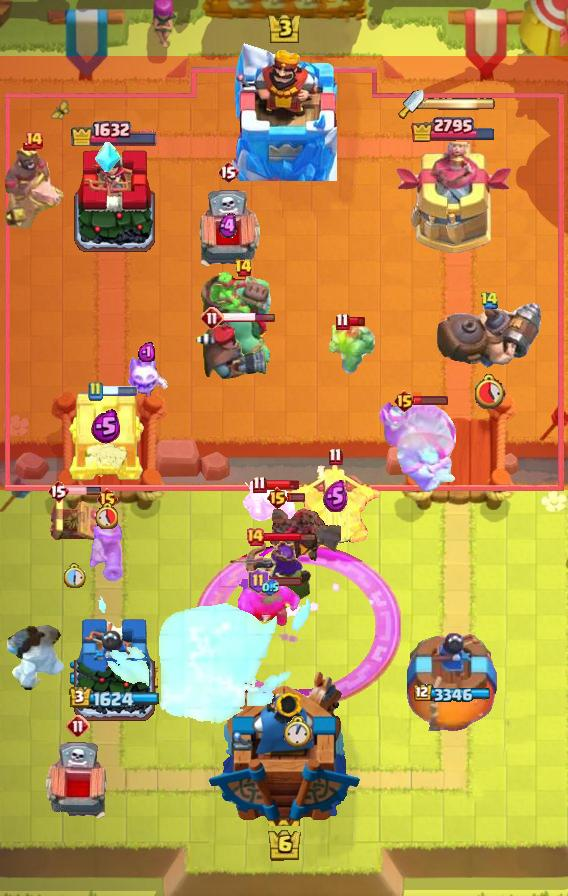archer-evolution: (249, 501, 341, 581)
arrows: (241, 481, 298, 531)
bar: (394, 142, 512, 256)
barbarian-hut: (224, 535, 312, 621)
bomb: (66, 388, 146, 482)
bomb-tower: (87, 506, 127, 582)
electro-spirit: (91, 408, 121, 443), (323, 480, 348, 512), (219, 213, 237, 239), (137, 341, 154, 363), (261, 580, 279, 596)
elixir: (472, 373, 506, 409), (284, 715, 312, 748), (62, 563, 86, 589), (95, 503, 118, 530)
elixir-golem-mid: (193, 189, 263, 275), (43, 741, 113, 827)
emote: (222, 313, 276, 324), (263, 532, 316, 543), (264, 479, 300, 491), (265, 577, 303, 588), (413, 395, 449, 406), (100, 386, 138, 396), (66, 486, 102, 496), (347, 316, 366, 328), (287, 493, 306, 504)
freeze: (1, 143, 67, 229)
goblin-brawler: (47, 494, 101, 544)
king-tower: (207, 669, 361, 826), (231, 43, 337, 181)
king-tower-bar: (424, 97, 496, 111)
knight-evolution: (194, 545, 402, 708)
lava-hound: (199, 269, 287, 367), (377, 399, 459, 495)
lava-pup: (286, 465, 384, 547)
mega-knight: (94, 582, 311, 728)
mirror: (122, 351, 170, 399)
pad_2: (94, 142, 120, 174)
phoenix-small: (192, 321, 270, 381)
queen-tower: (70, 616, 158, 731), (71, 144, 157, 255), (407, 633, 499, 731)
rage: (0, 624, 66, 694)
selected: (69, 118, 158, 146), (411, 114, 498, 141), (68, 686, 159, 710), (414, 684, 494, 704)
text: (200, 306, 224, 330), (66, 714, 90, 738), (393, 389, 416, 413), (267, 486, 290, 510), (97, 487, 120, 511), (247, 568, 268, 594), (217, 160, 239, 184), (47, 479, 69, 503), (24, 130, 44, 150), (245, 527, 265, 547), (234, 258, 253, 278), (480, 290, 500, 309), (87, 381, 103, 401), (328, 447, 343, 466), (252, 475, 267, 494), (335, 313, 350, 331)
tornado: (238, 578, 302, 628)
valkyrie-evolution: (325, 323, 377, 375)
wizard: (433, 300, 545, 370)
